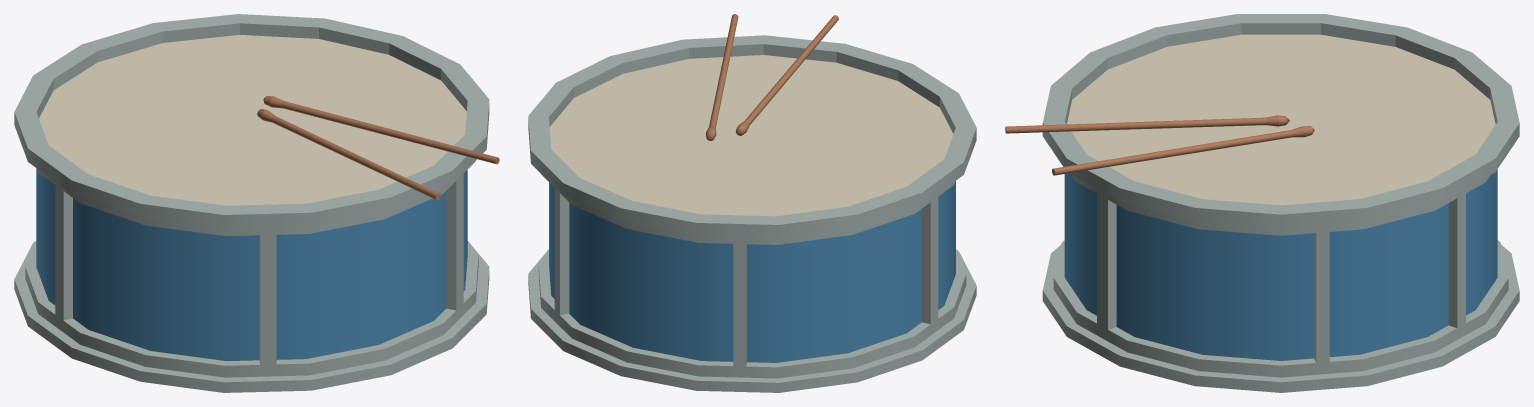
Rendered from F_Drum_02.fbx.
The picture shows the model from 3 angles, left to right: view 1: azimuth 30°, elevation 25°; view 2: azimuth 150°, elevation 25°; view 3: azimuth 270°, elevation 25°; orthographic projection. The views are drawn at different scales.
Visible parts, largest first — view 1: F_Drum_02; view 2: F_Drum_02; view 3: F_Drum_02.
Boxes of the visible parts, bbox=[...] form: F_Drum_02: bbox=[14, 14, 499, 392]; F_Drum_02: bbox=[528, 14, 976, 392]; F_Drum_02: bbox=[1005, 14, 1519, 392].
Bounding box in the file's own units: 68.67 × 30.04 × 74.38.
